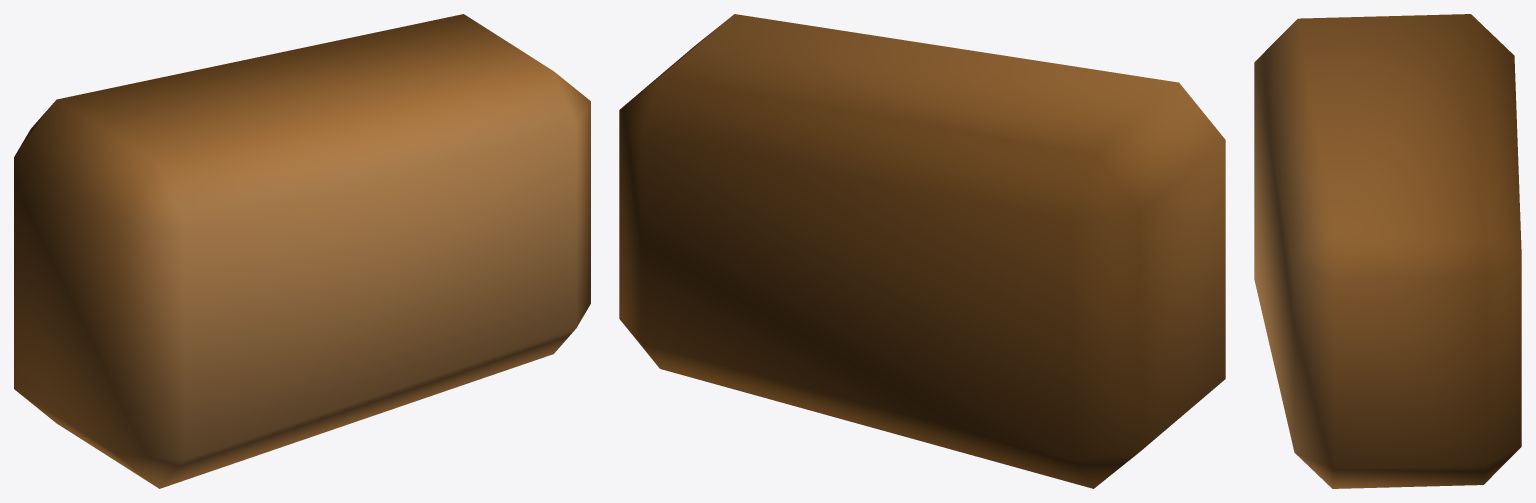
The model's file is Brick_00.fbx.
3 views of the same model, side by side, from view 1: azimuth 30°, elevation 25°; view 2: azimuth 150°, elevation 25°; view 3: azimuth 270°, elevation 25° (orthographic). The views are drawn at different scales.
Visible parts, largest first — view 1: Brick_00; view 2: Brick_00; view 3: Brick_00.
Boxes of the visible parts, x1,y1,x2,y2 form: Brick_00: (14, 14, 590, 488); Brick_00: (619, 14, 1225, 488); Brick_00: (1254, 14, 1521, 488).
Bounding box in the file's own units: 641 × 393 × 316.
